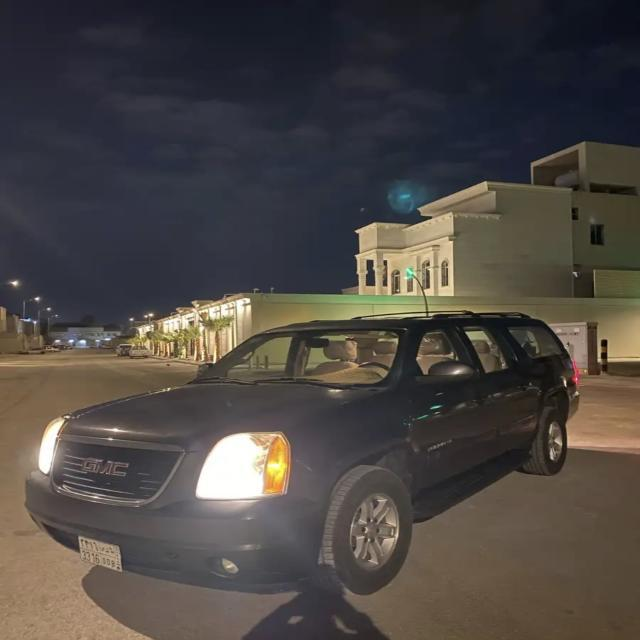license_plate: (77, 534, 124, 572)
